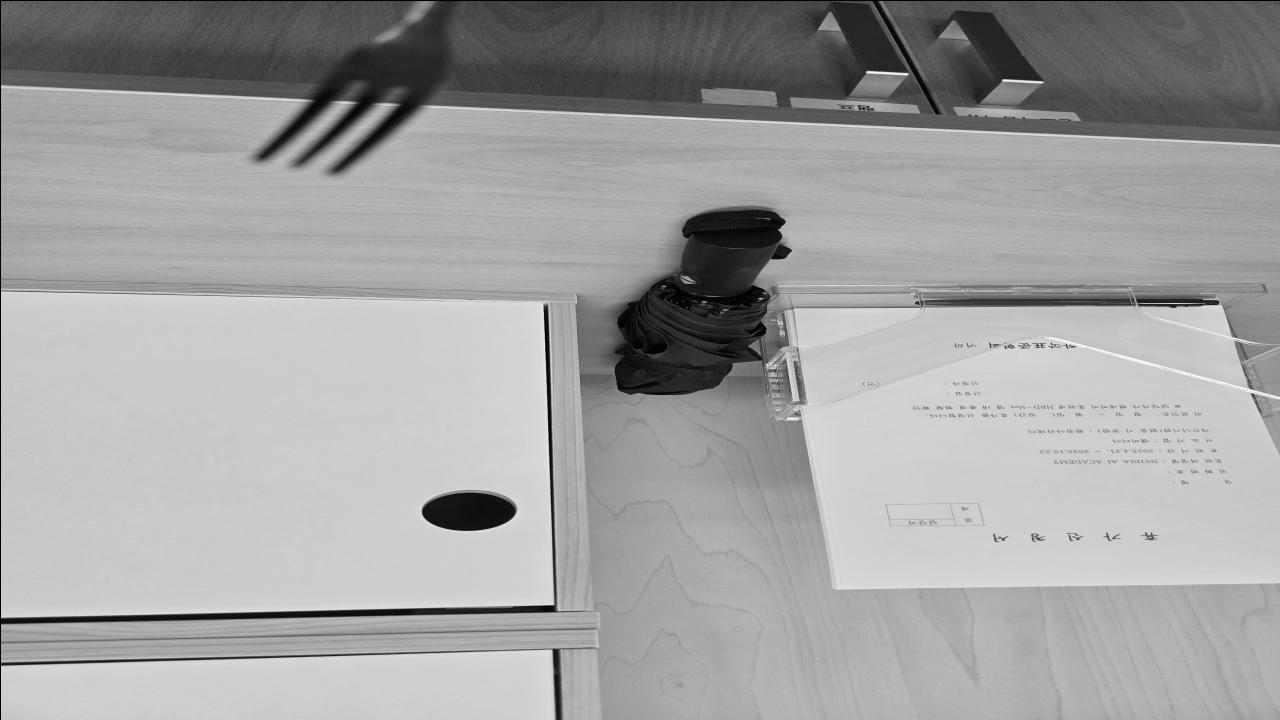fork: (242, 0, 462, 179)
